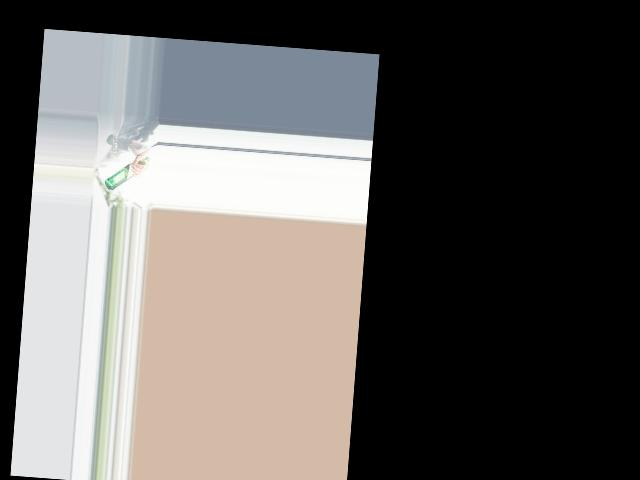beer: (103, 152, 149, 192)
